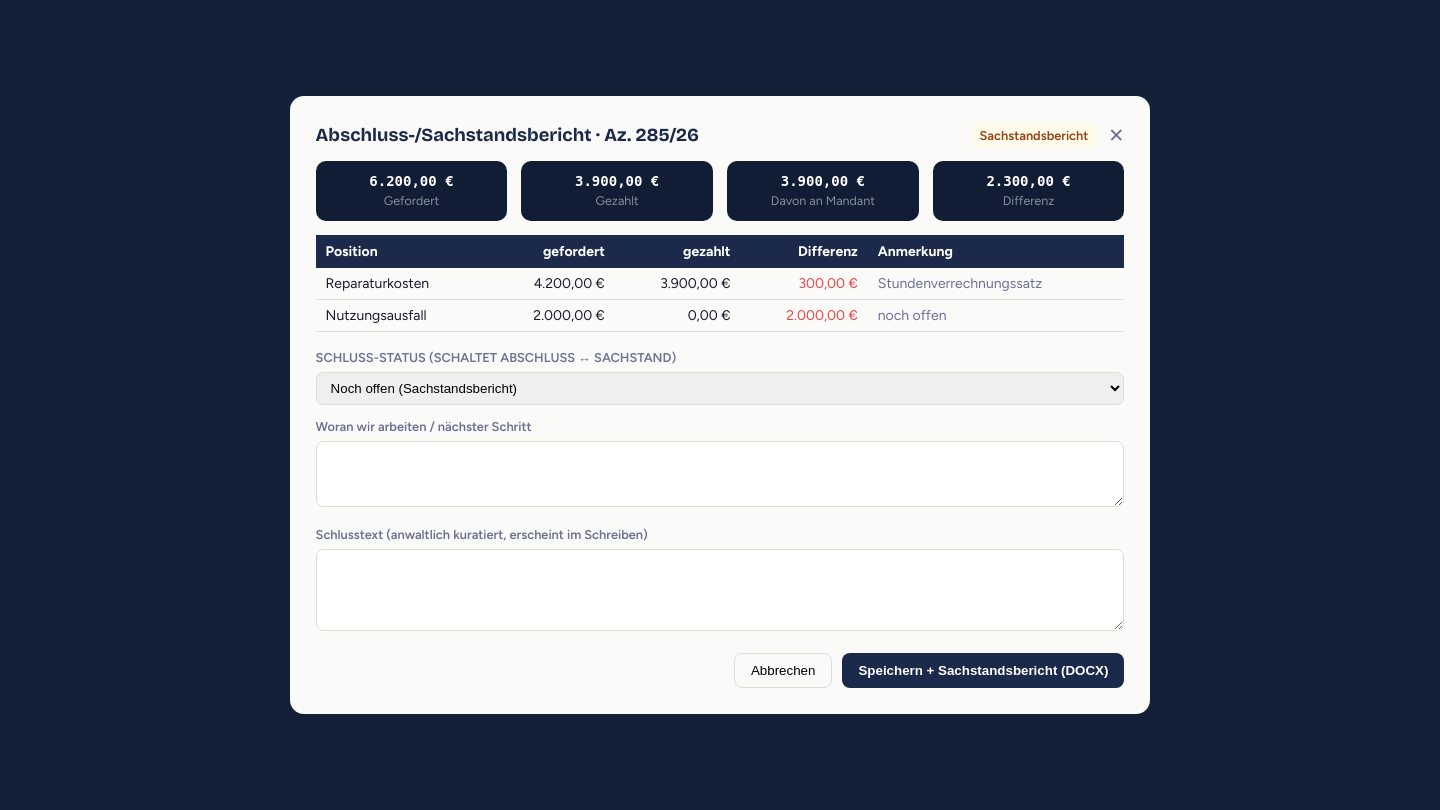
Test: AbschlussberichtDialog › zeigt Badge 'Sachstandsbericht' bei typ=offen und wechselt zu 'Abschlussbericht'
The image size is (1440, 810).
expect the text "Reparaturkosten" is shown: met, box [316,268,488,299]
expect the text "Sachstandsbericht" is shown: met, box [970,123,1098,148]
Step 1. Select "Endgültig erledigt" in the dropdown → (720, 389), box [316,372,1124,405]
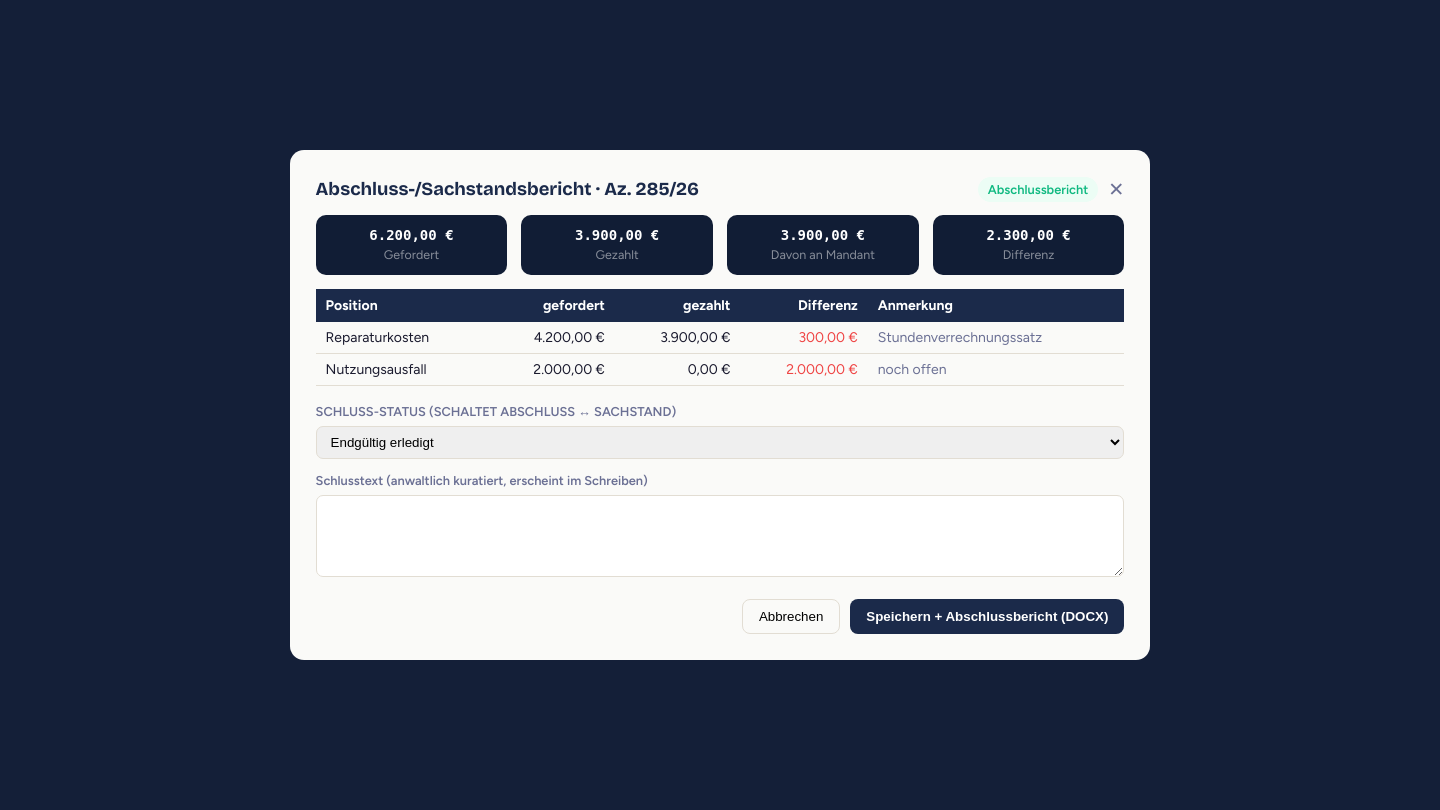
expect the text "Abschlussbericht" is shown: met, box [978,177,1098,202]
